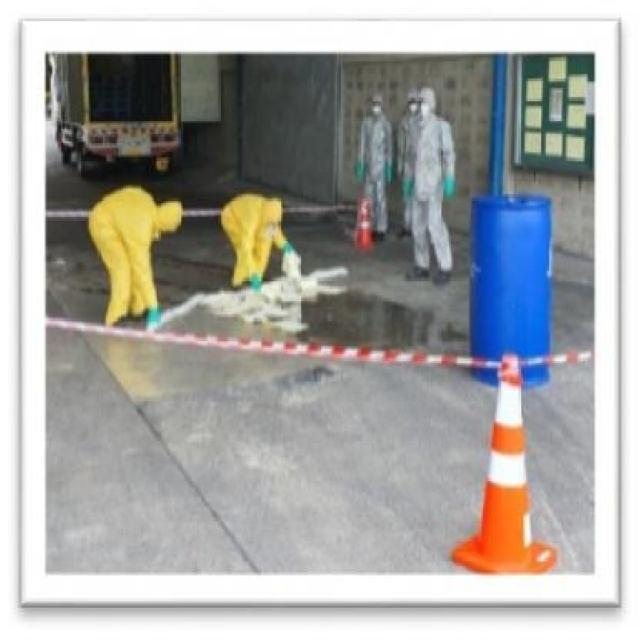spillage: (300, 284, 470, 347)
